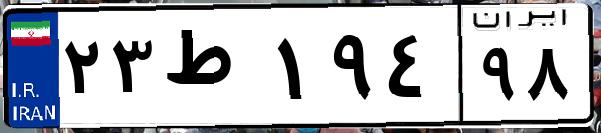1: (270, 28, 330, 110)
2: (57, 26, 110, 100)
3: (110, 28, 158, 98)
4: (385, 28, 445, 110)
8: (525, 38, 570, 115)
9: (330, 28, 385, 110), (475, 38, 525, 113)
ط: (158, 20, 270, 120)
